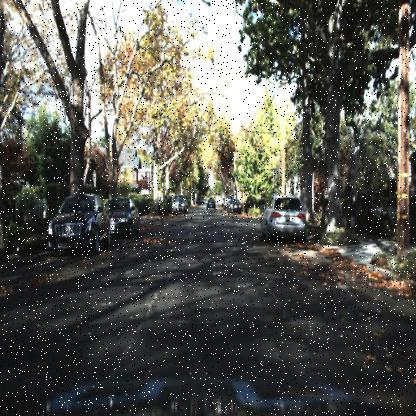car: (40, 187, 115, 263), (257, 186, 312, 249), (110, 188, 142, 251), (105, 194, 140, 240), (169, 192, 187, 216), (226, 197, 244, 218), (227, 195, 243, 216), (204, 195, 218, 211)
